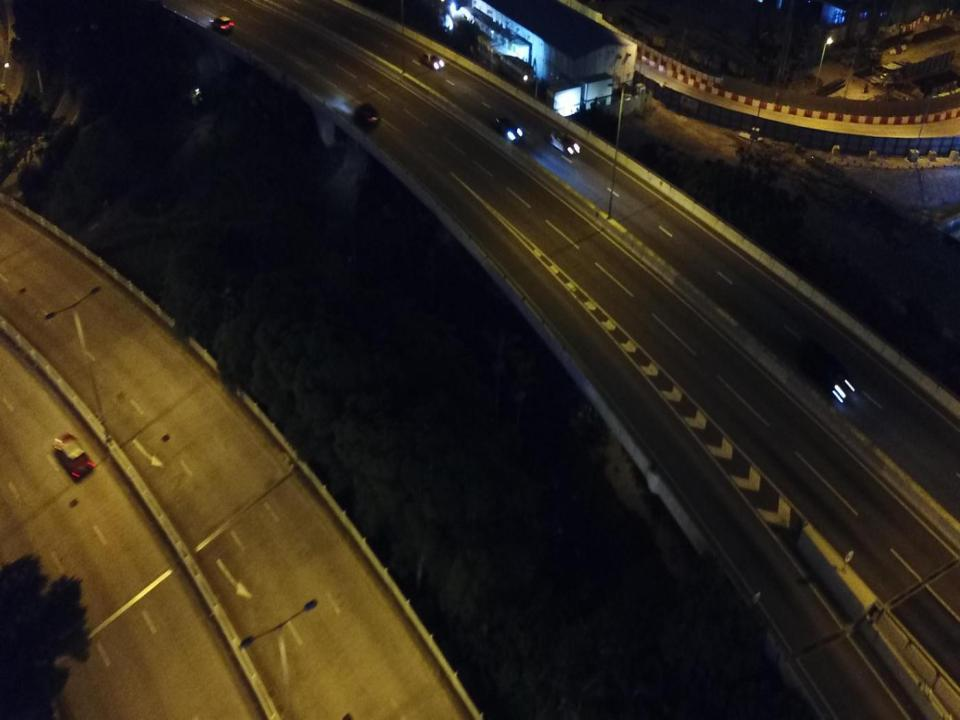car: (52, 430, 95, 483), (550, 129, 581, 158), (494, 116, 522, 141), (355, 102, 380, 126), (418, 52, 444, 70), (211, 16, 232, 32)
van: (796, 336, 852, 404)
